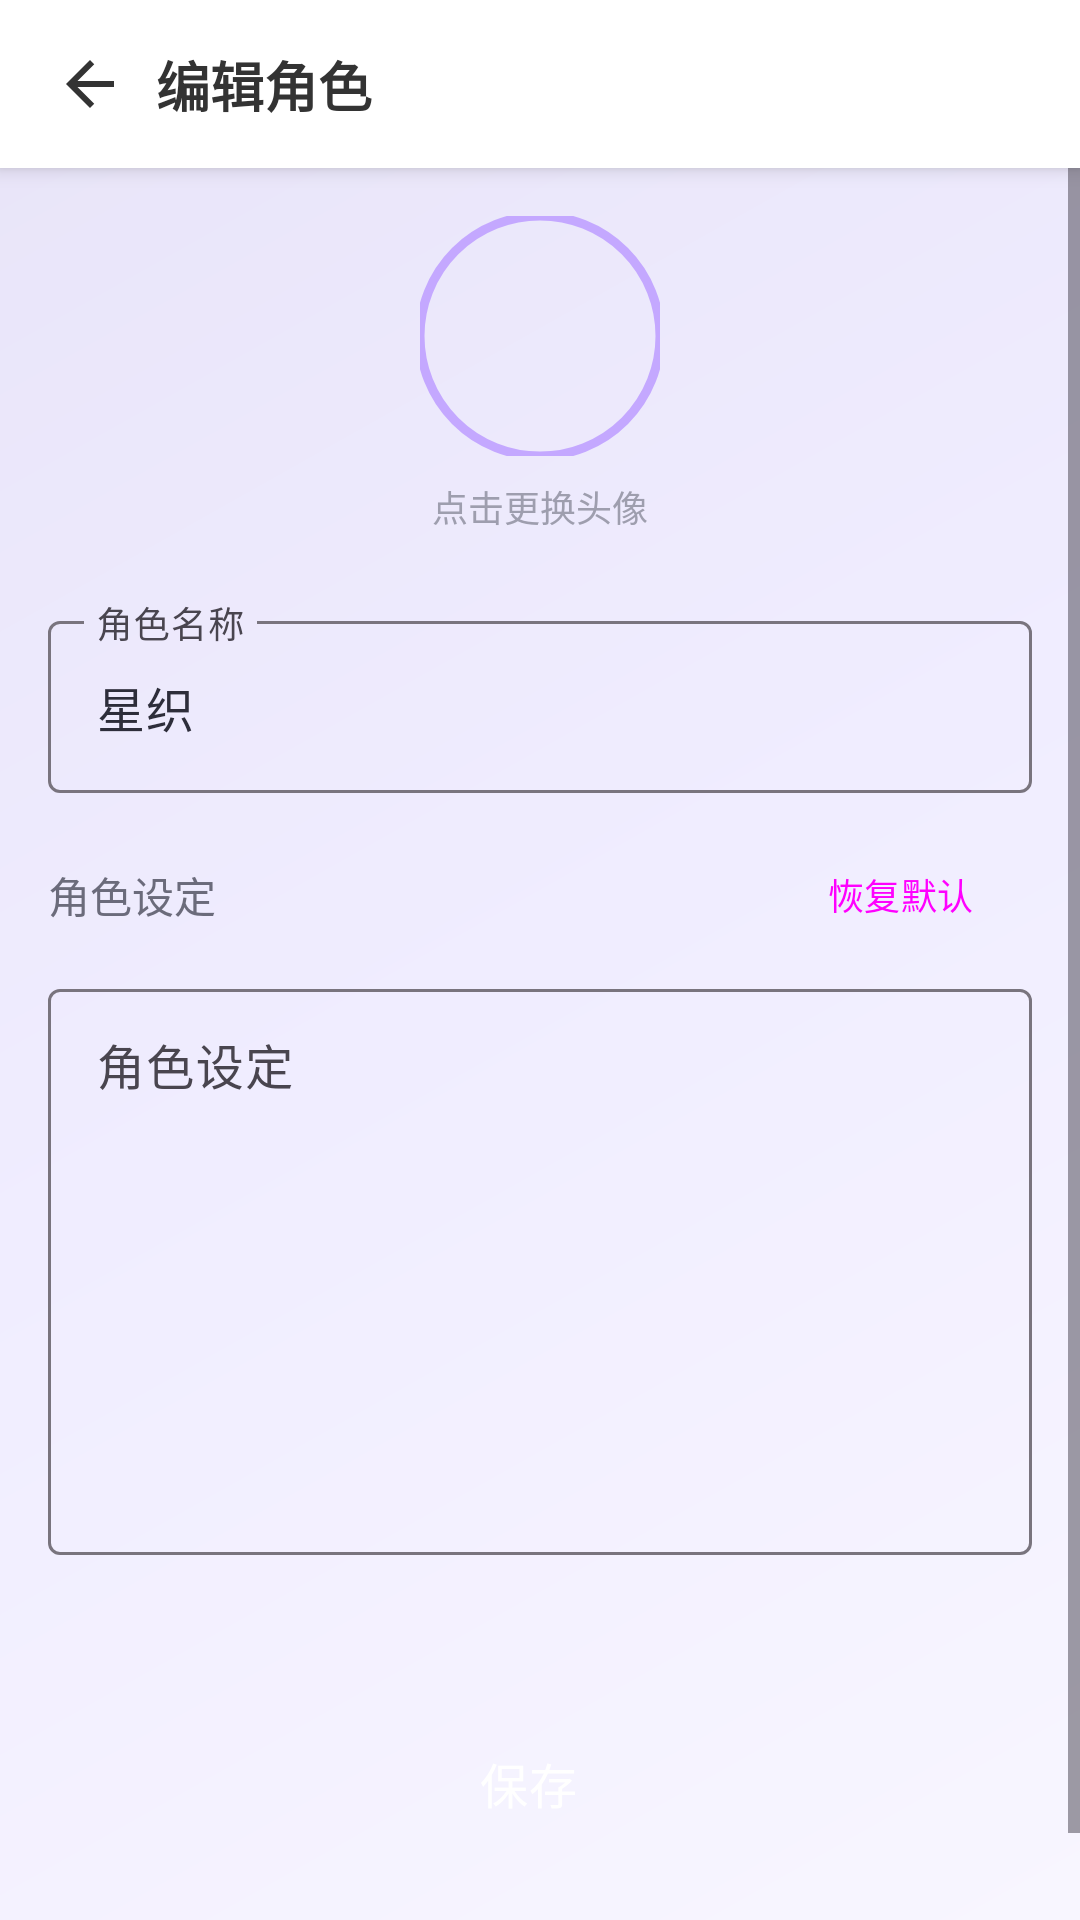

Screen size 1080*1920. Icon name, then its center in pixels as point (x, y):
取消: point (90, 84)
